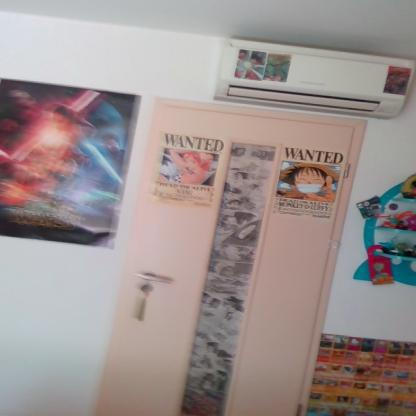door: (122, 86, 342, 416)
hinged: (341, 160, 353, 183), (292, 399, 308, 415)
lever: (139, 269, 178, 287)
